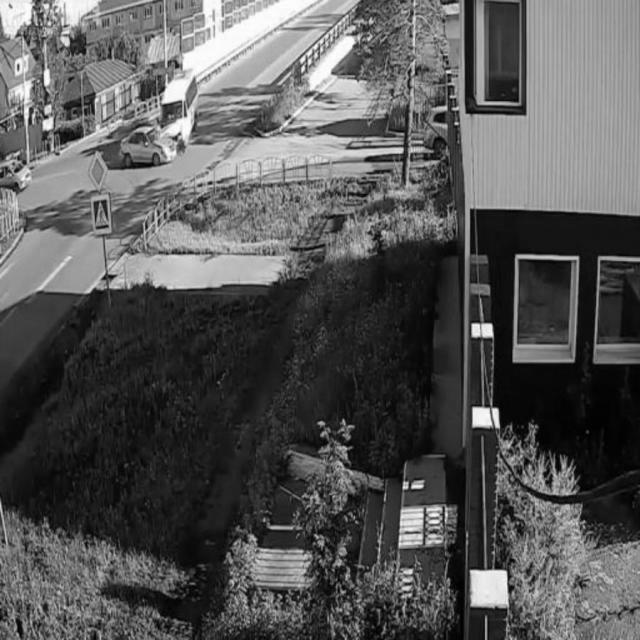accident: (124, 77, 201, 165)
vehicle: (4, 153, 31, 195)
